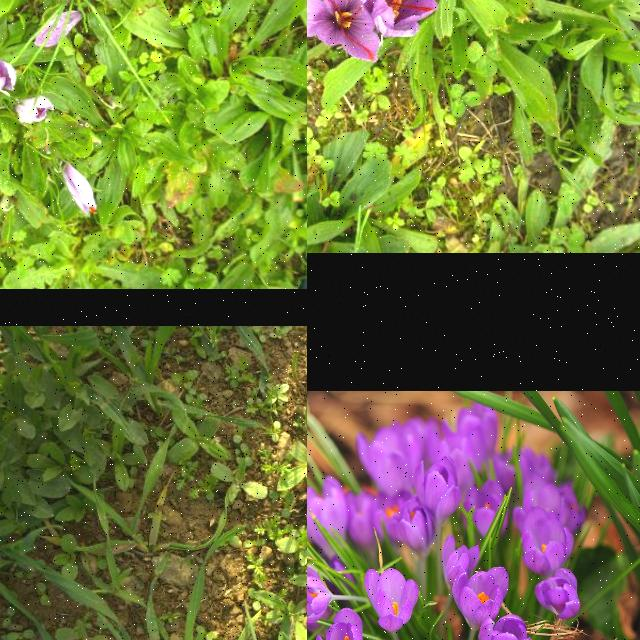flower: (307, 0, 381, 62), (362, 0, 451, 37), (60, 160, 98, 217), (15, 97, 55, 123), (0, 53, 16, 95)
